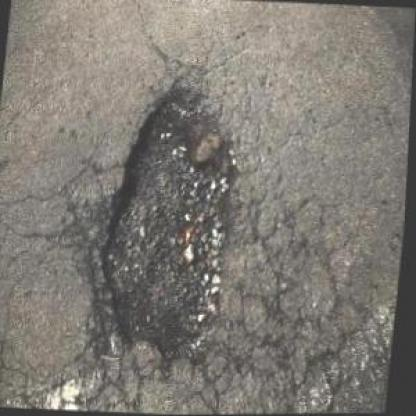pothole: (79, 75, 257, 365)
